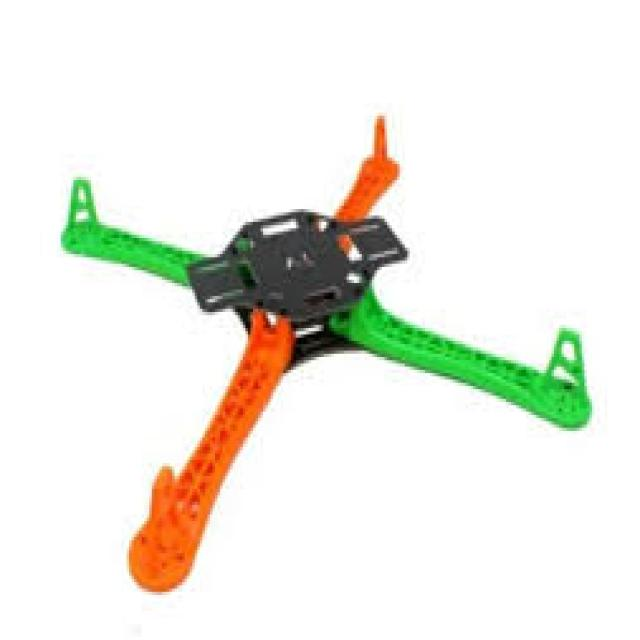drone: (40, 112, 599, 593)
